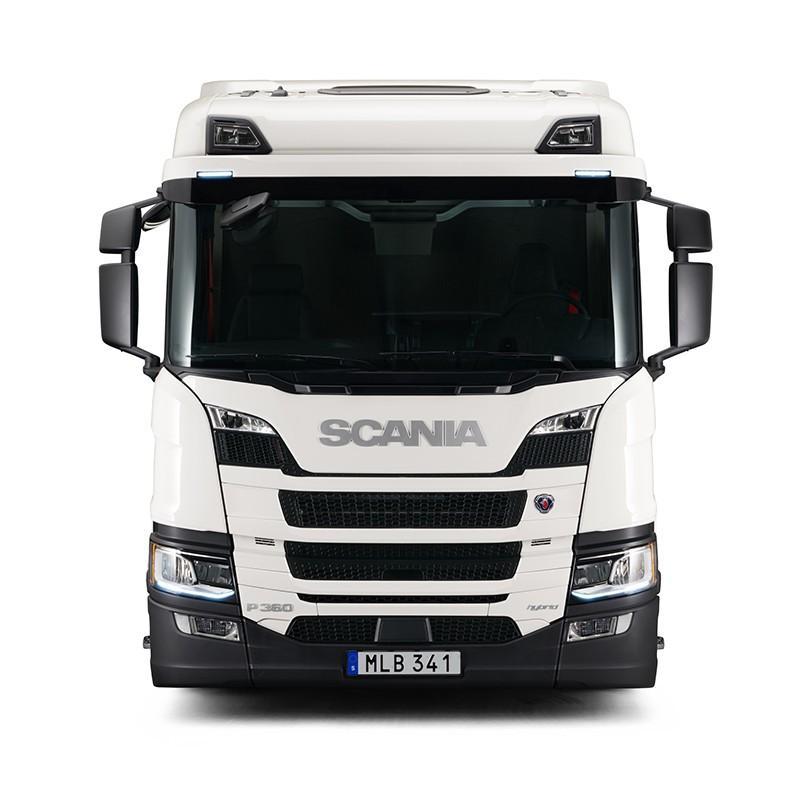truck: (100, 78, 712, 692)
